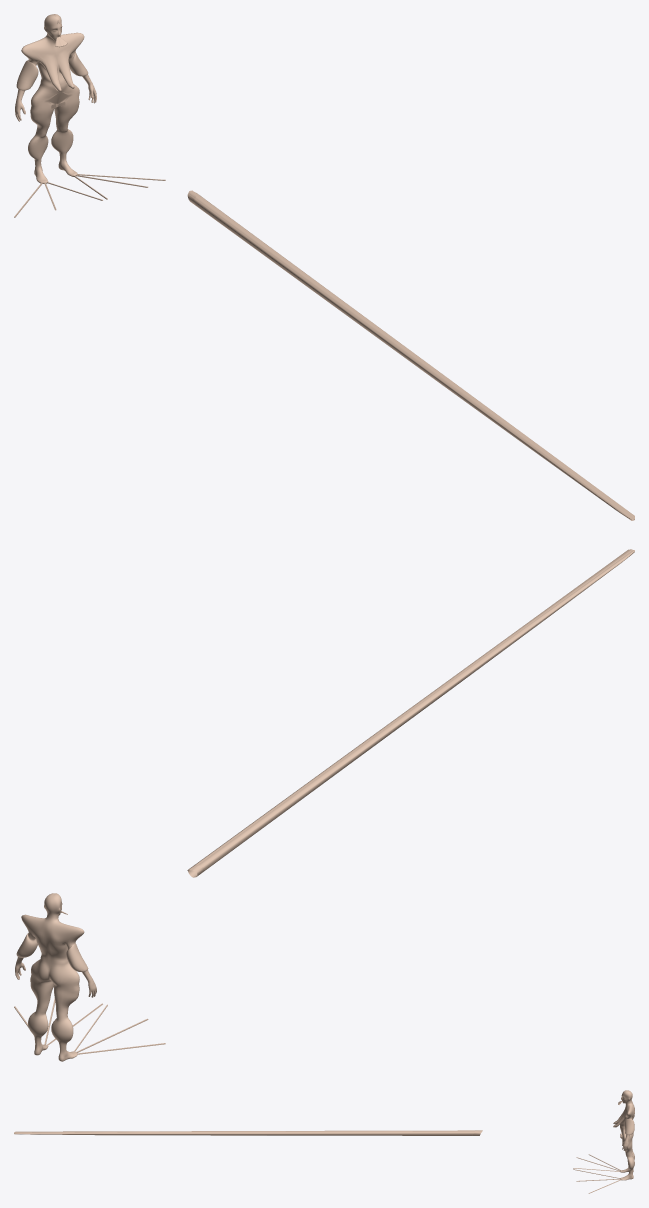
File: glorpenorp.fbx
3 views of the same model, one above another, from view 1: azimuth 30°, elevation 25°; view 2: azimuth 150°, elevation 25°; view 3: azimuth 270°, elevation 25° (orthographic). The views are drawn at different scales.
Visible parts, largest first — view 1: HumanBody:humanBody; view 2: HumanBody:humanBody; view 3: HumanBody:humanBody.
Boxes of the visible parts, <box> form: HumanBody:humanBody: <box>14,14,634,520</box>; HumanBody:humanBody: <box>14,549,634,1061</box>; HumanBody:humanBody: <box>14,1090,634,1193</box>.
Size of the model in its own units: 181 by 183 by 1212.
